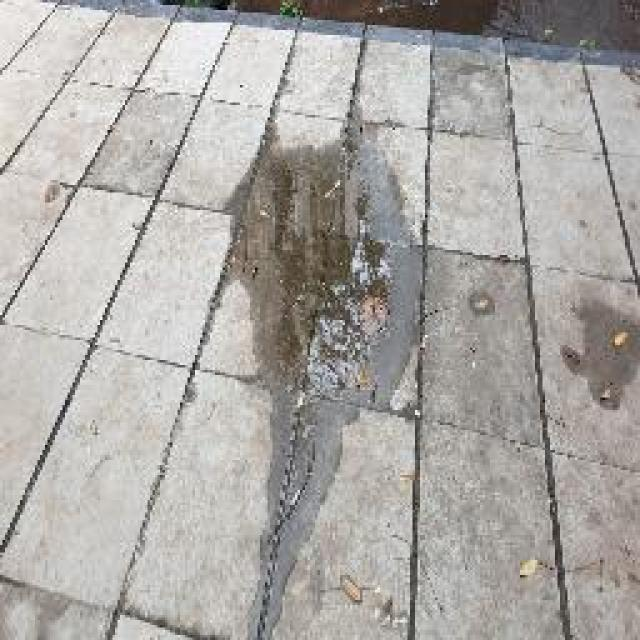puddle: (235, 148, 394, 415)
